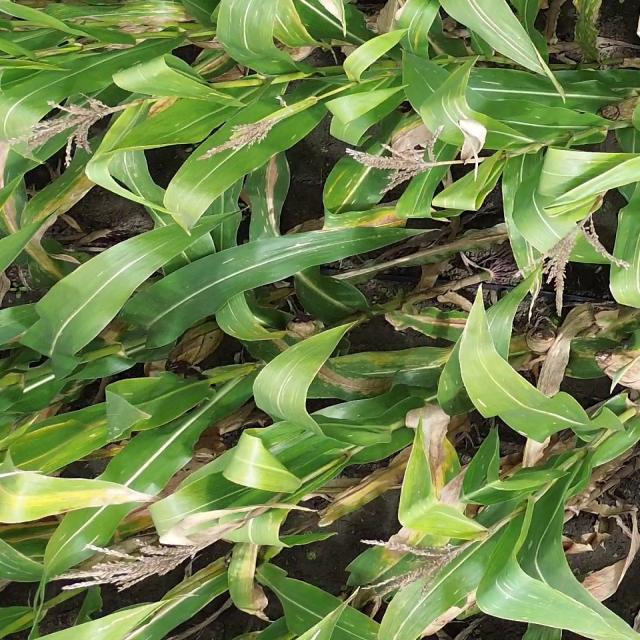gray-leaf-spot: (490, 572, 551, 621), (473, 399, 545, 440), (318, 603, 386, 640), (426, 84, 476, 128), (498, 163, 546, 207), (328, 173, 380, 212), (224, 6, 274, 44), (112, 0, 192, 23), (219, 300, 260, 339), (0, 543, 43, 579), (158, 73, 212, 101), (460, 65, 520, 90), (100, 407, 148, 437), (434, 374, 468, 413), (114, 153, 154, 186), (38, 167, 86, 194), (411, 176, 442, 213), (222, 183, 248, 226), (280, 8, 308, 44)
northern-leaf-blight: (275, 340, 385, 397), (5, 204, 58, 275), (394, 301, 470, 337), (255, 156, 288, 230), (194, 48, 236, 78)
southern-leaf-blight: (296, 236, 387, 264), (401, 480, 444, 527), (232, 552, 256, 600), (469, 450, 500, 484)
